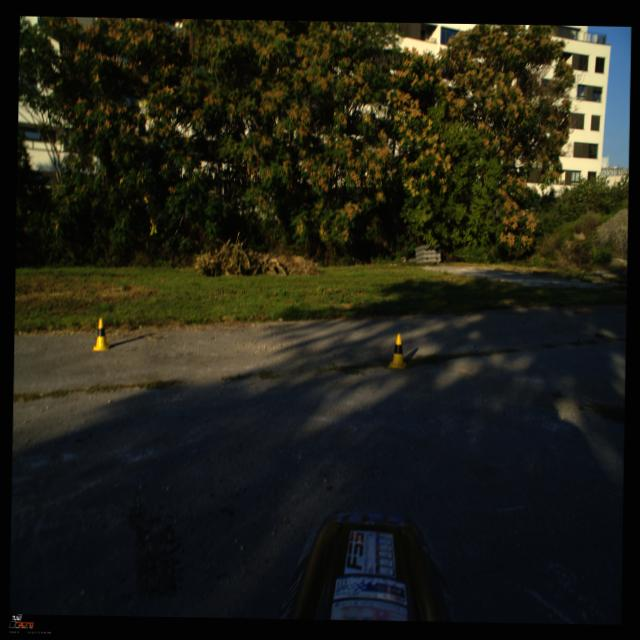yellow_cone: (387, 333, 406, 369), (92, 317, 110, 351)
